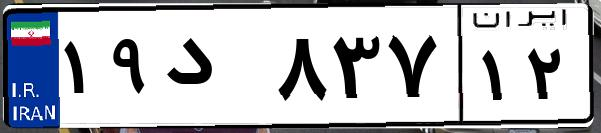1: (57, 26, 110, 100), (475, 38, 525, 113)
2: (525, 38, 570, 115)
3: (330, 28, 385, 110)
7: (385, 28, 445, 110)
8: (270, 28, 330, 110)
9: (110, 28, 158, 98)
د: (158, 20, 270, 120)
